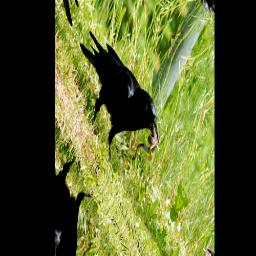Crow: (68, 0, 166, 204)
